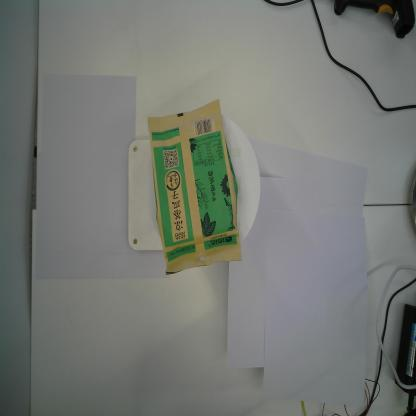Dried Food: (145, 97, 243, 277)
